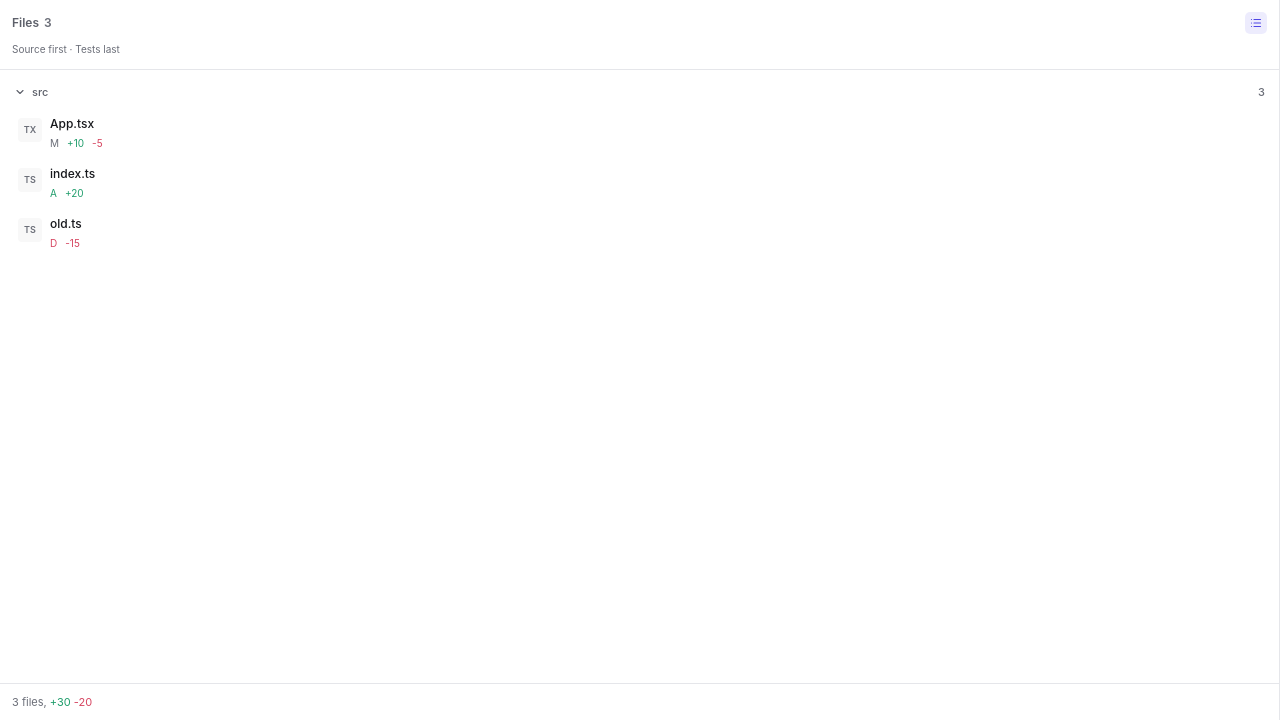
Test: DiffFileTree › toggles tree mode button
Click the button titled "Flat list": x=1256, y=23 [1245, 12, 1267, 34]
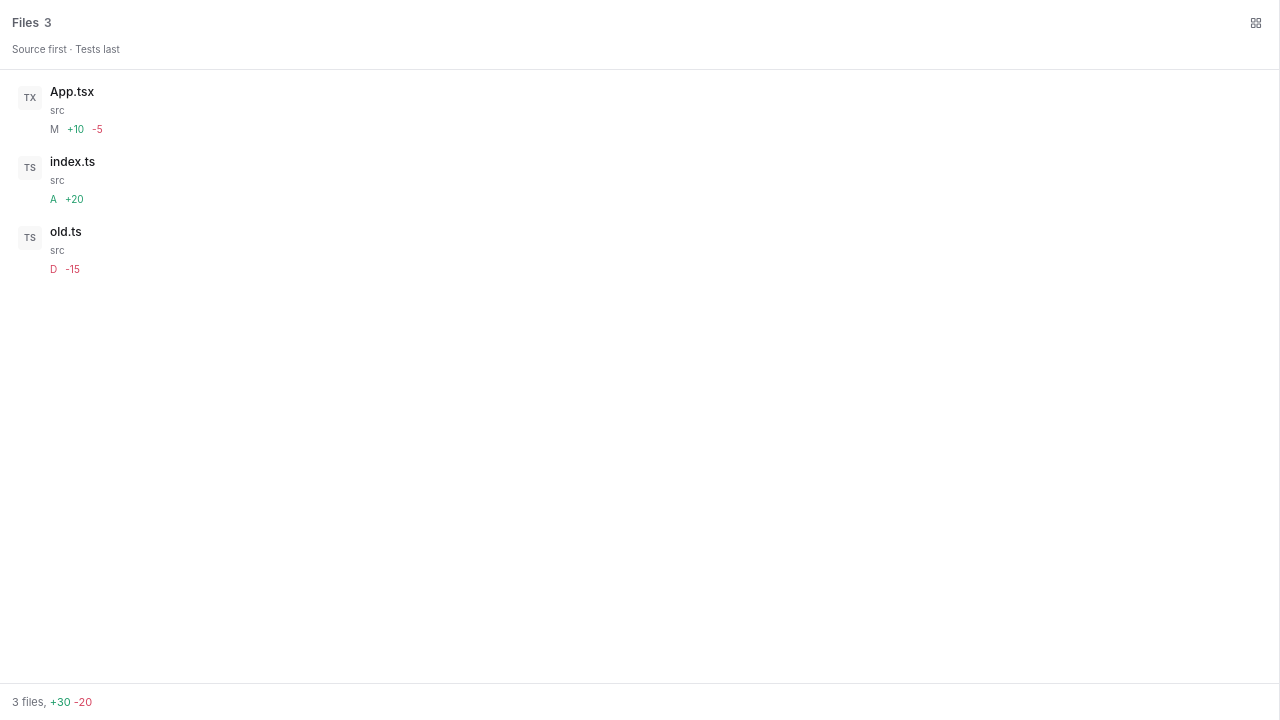
Expected: the button titled "Grouped view" is shown, [1245, 12, 1267, 34]
